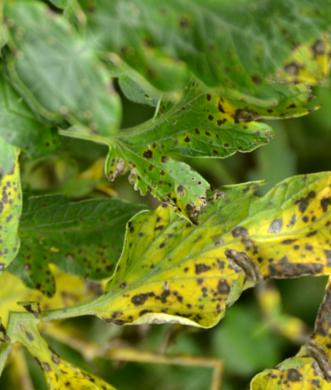Tomato Early blight leaf: (72, 102, 331, 390), (0, 122, 79, 296), (27, 311, 146, 390)
